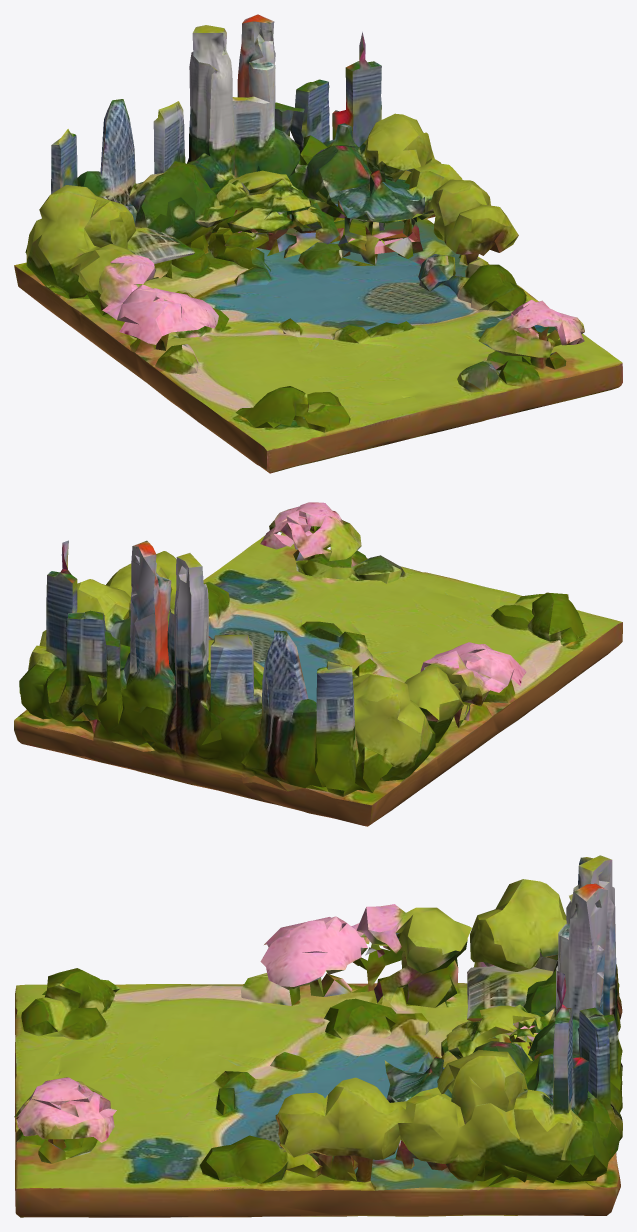
The model's file is shinjuku-gyoen.glb.
3 views of the same model, one above another, from view 1: azimuth 30°, elevation 25°; view 2: azimuth 150°, elevation 25°; view 3: azimuth 270°, elevation 25° (orthographic). The views are drawn at different scales.
Parts seen in each view (by area): view 1: logan-textured.obj; view 2: logan-textured.obj; view 3: logan-textured.obj.
Boxes of the visible parts, x1,y1,x2,y2 form: logan-textured.obj: (14,14,622,473); logan-textured.obj: (14,502,622,826); logan-textured.obj: (14,855,622,1217).
Size of the model in its own units: 0.8789 by 0.4768 by 1.
Materials: 1 (1 with a texture image).
